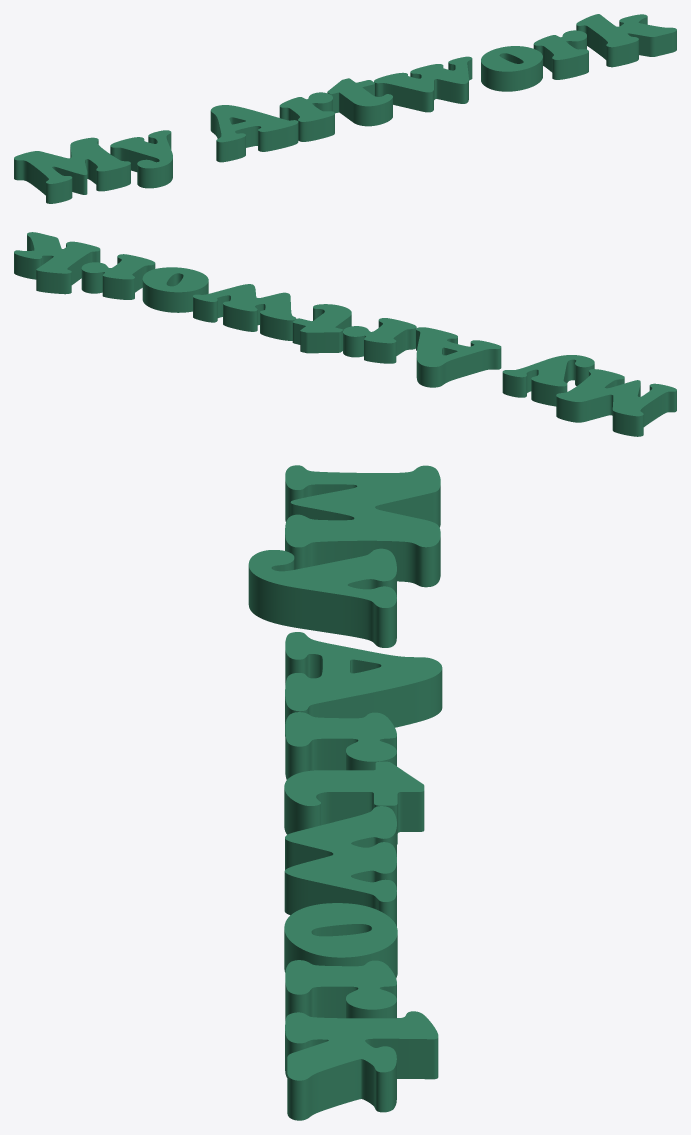
The model's file is myart.glb.
3 views of the same model, one above another, from view 1: azimuth 30°, elevation 25°; view 2: azimuth 150°, elevation 25°; view 3: azimuth 270°, elevation 25° (orthographic). The views are drawn at different scales.
Visible parts, largest first — view 1: Text; view 2: Text; view 3: Text.
Part boxes in pixels (bbox=[...]): Text: bbox=[14, 14, 676, 203]; Text: bbox=[14, 232, 676, 436]; Text: bbox=[248, 465, 442, 1120].
Size of the model in its own units: 3.3 by 0.1 by 0.4381.
